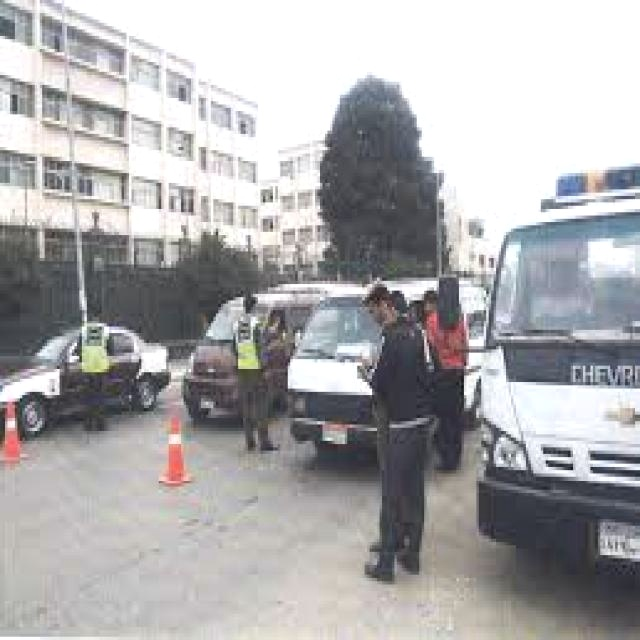car: (285, 275, 386, 516), (0, 320, 169, 441)
person: (359, 289, 468, 559), (231, 290, 280, 450)
police-car: (488, 111, 640, 587)
